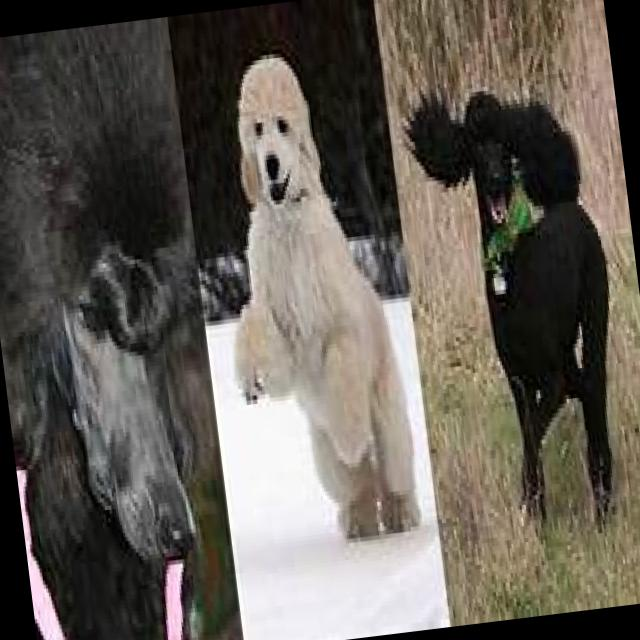animal: (0, 16, 244, 640), (199, 50, 422, 550), (407, 79, 638, 535)
